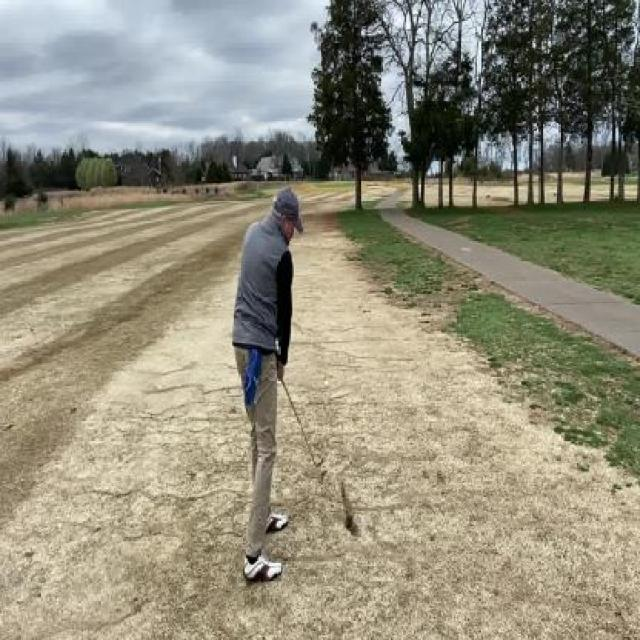club head: (311, 456, 326, 470)
